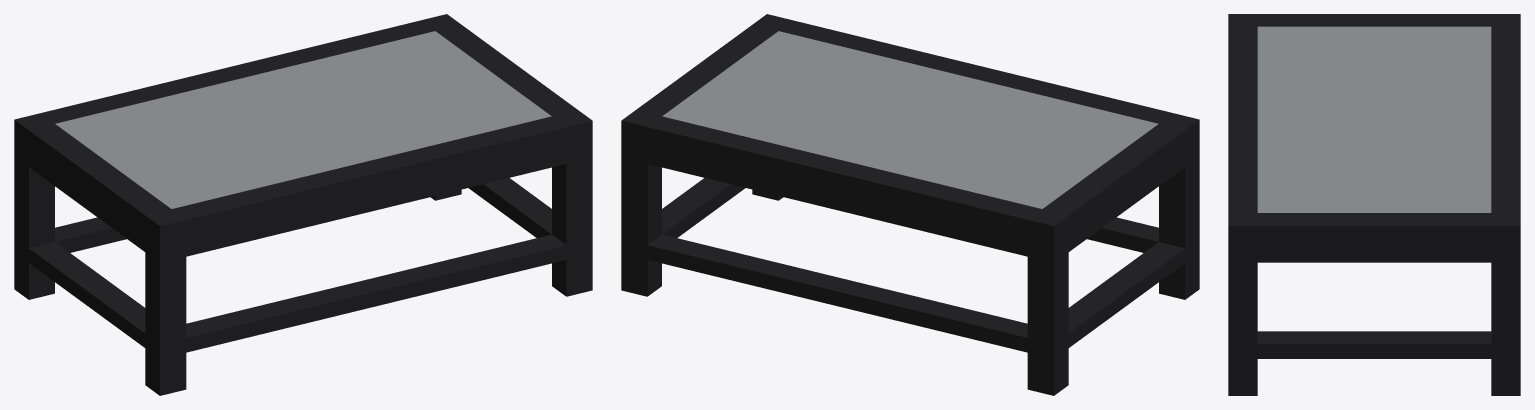
File: pk_cocktail_glass.glb
3 views of the same model, side by side, from view 1: azimuth 30°, elevation 25°; view 2: azimuth 150°, elevation 25°; view 3: azimuth 270°, elevation 25° (orthographic).
Visible parts, largest first — view 1: pk_cocktail_glass; view 2: pk_cocktail_glass; view 3: pk_cocktail_glass.
Part boxes in pixels (box(x1,y1,x2,y2)): pk_cocktail_glass: box(14, 14, 592, 395); pk_cocktail_glass: box(621, 14, 1199, 395); pk_cocktail_glass: box(1228, 14, 1520, 395).
Size of the model in its own units: 1.2 by 0.45 by 0.7.
1 material, 1 textured.
